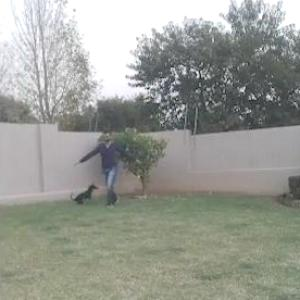land: (88, 119, 160, 215)
